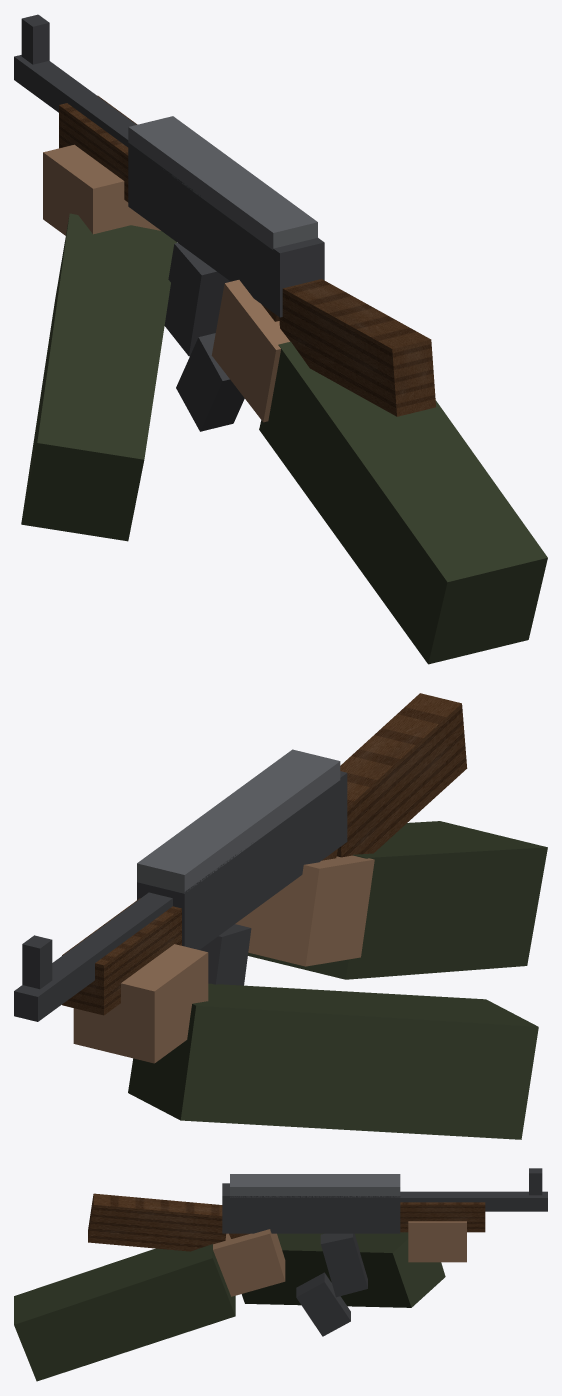
The picture shows the model from 3 angles, top to bottom: view 1: azimuth 30°, elevation 25°; view 2: azimuth 150°, elevation 25°; view 3: azimuth 270°, elevation 25°; orthographic projection. The views are drawn at different scales.
Visible parts, largest first — view 1: ak_4, ak_0, ak_2, ak_3, ak_1; view 2: ak_4, ak_0, ak_3, ak_2, ak_1; view 3: ak_4, ak_0, ak_2, ak_3, ak_1.
Boxes of the visible parts, box(x1,y1,x2,y2) form: ak_4: box(21, 213, 547, 664); ak_0: box(14, 14, 324, 431); ak_2: box(59, 95, 435, 416); ak_3: box(43, 144, 289, 422); ak_1: box(128, 116, 317, 249); ak_4: box(128, 821, 547, 1139); ak_0: box(14, 771, 347, 1021); ak_3: box(73, 855, 374, 1063); ak_2: box(62, 693, 467, 1015); ak_1: box(137, 749, 340, 893); ak_4: box(14, 1232, 445, 1381); ak_0: box(222, 1168, 547, 1336); ak_2: box(88, 1193, 485, 1251); ak_3: box(213, 1221, 466, 1296); ak_1: box(230, 1174, 400, 1197).
Size of the model in its own units: 0.4821 by 0.4974 by 1.26.
Materials: 5 (1 with a texture image).
